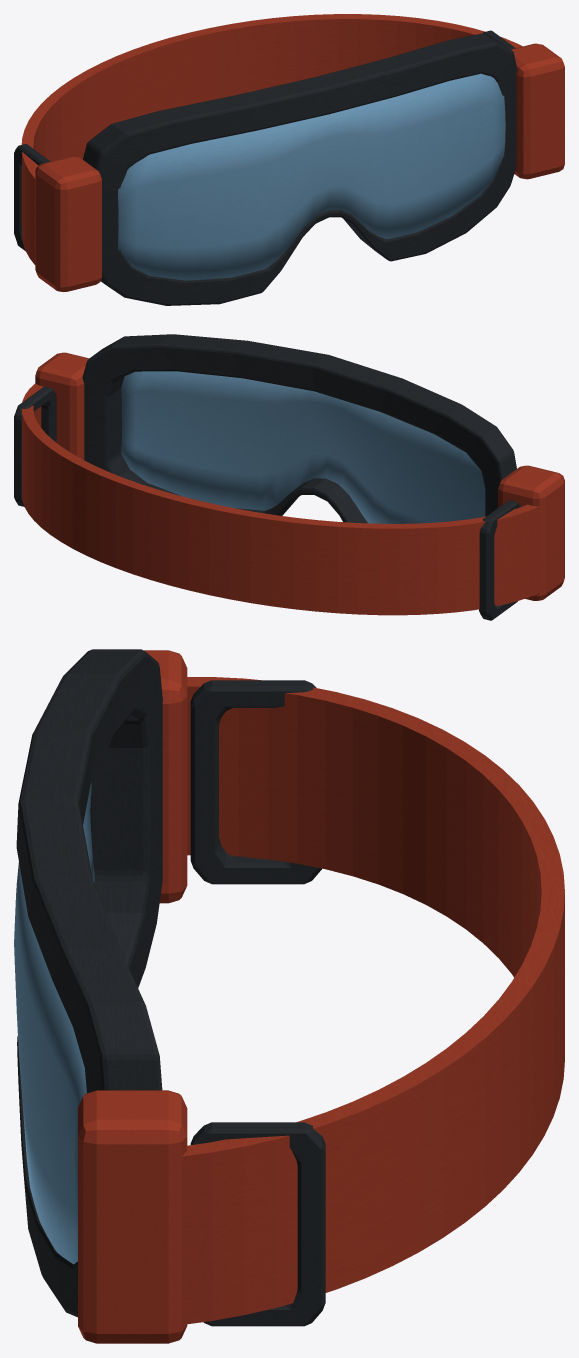
Rendered from PM_SnowGoggles.fbx.
3 views of the same model, one above another, from view 1: azimuth 30°, elevation 25°; view 2: azimuth 150°, elevation 25°; view 3: azimuth 270°, elevation 25° (orthographic). The views are drawn at different scales.
Visible parts, largest first — view 1: PM_SnowGoggles; view 2: PM_SnowGoggles; view 3: PM_SnowGoggles.
Boxes of the visible parts, bbox=[...] form: PM_SnowGoggles: bbox=[14, 14, 564, 305]; PM_SnowGoggles: bbox=[14, 334, 564, 620]; PM_SnowGoggles: bbox=[14, 649, 564, 1343].
Bounding box in the file's own units: 49.3 × 18.2 × 23.7.
1 material, 1 textured.
